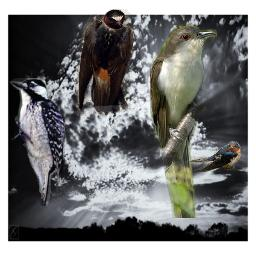Cuckoo: (150, 19, 217, 218)
Swallow: (77, 9, 133, 116), (185, 141, 241, 172)
Woodpecker: (10, 78, 65, 206)
